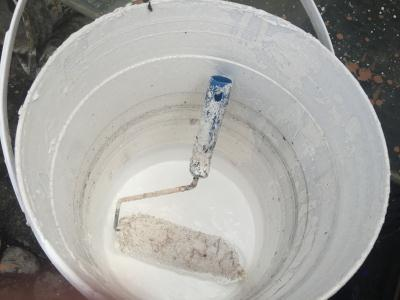bucket: (1, 1, 394, 297)
